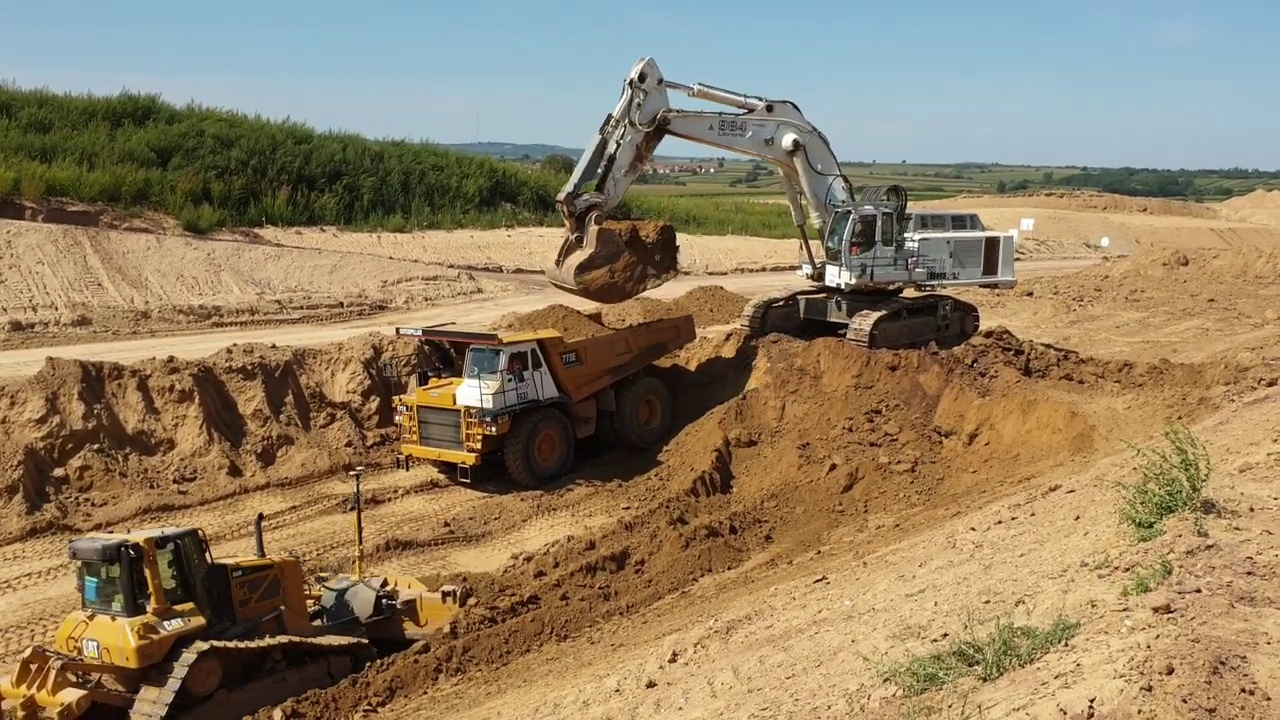bulldozer: (4, 461, 482, 720)
excavator: (546, 50, 1023, 351)
truck: (395, 309, 705, 493)
